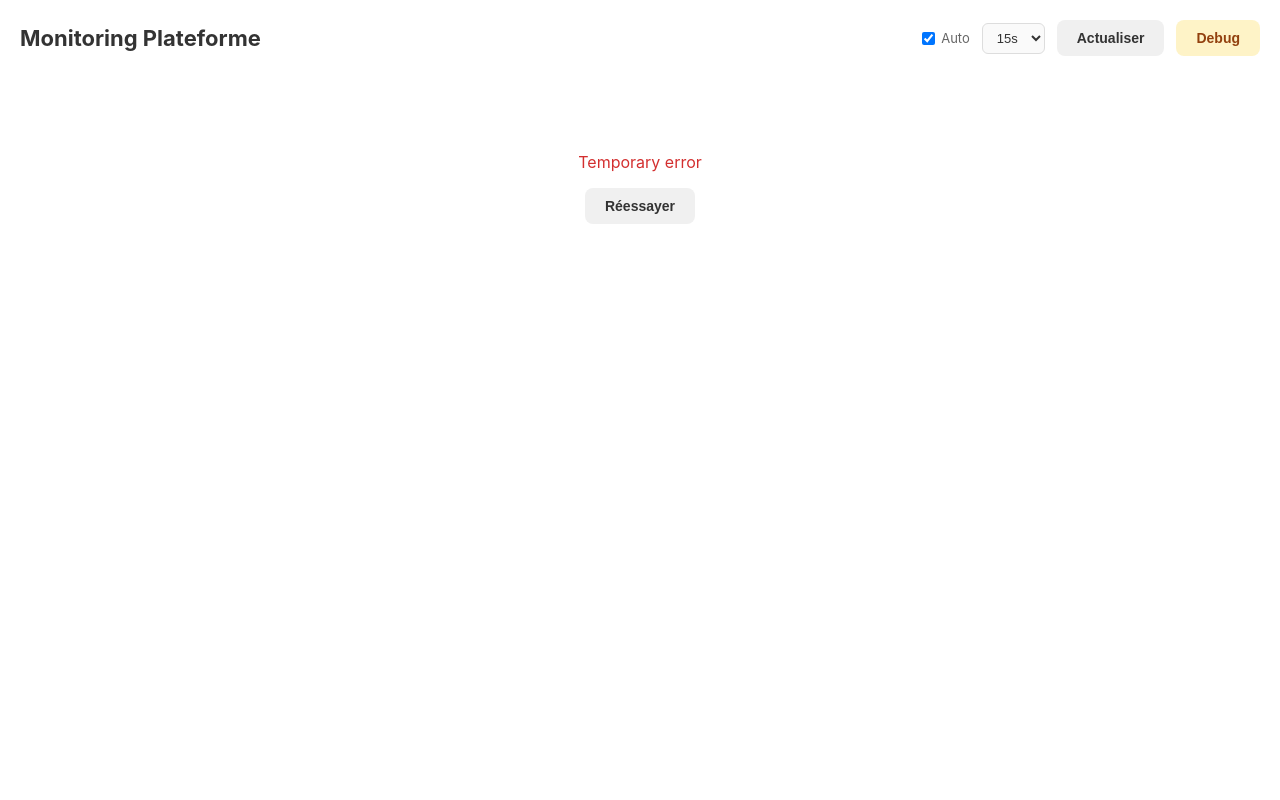
Test: Monitor › clicking Réessayer retries fetchHealth after error
The image size is (1280, 800).
Expected: the text "Temporary error" is shown, x1=578 y1=152 x2=702 y2=172
Click the button "Réessayer" at [640, 206], box x1=585 y1=188 x2=695 y2=224
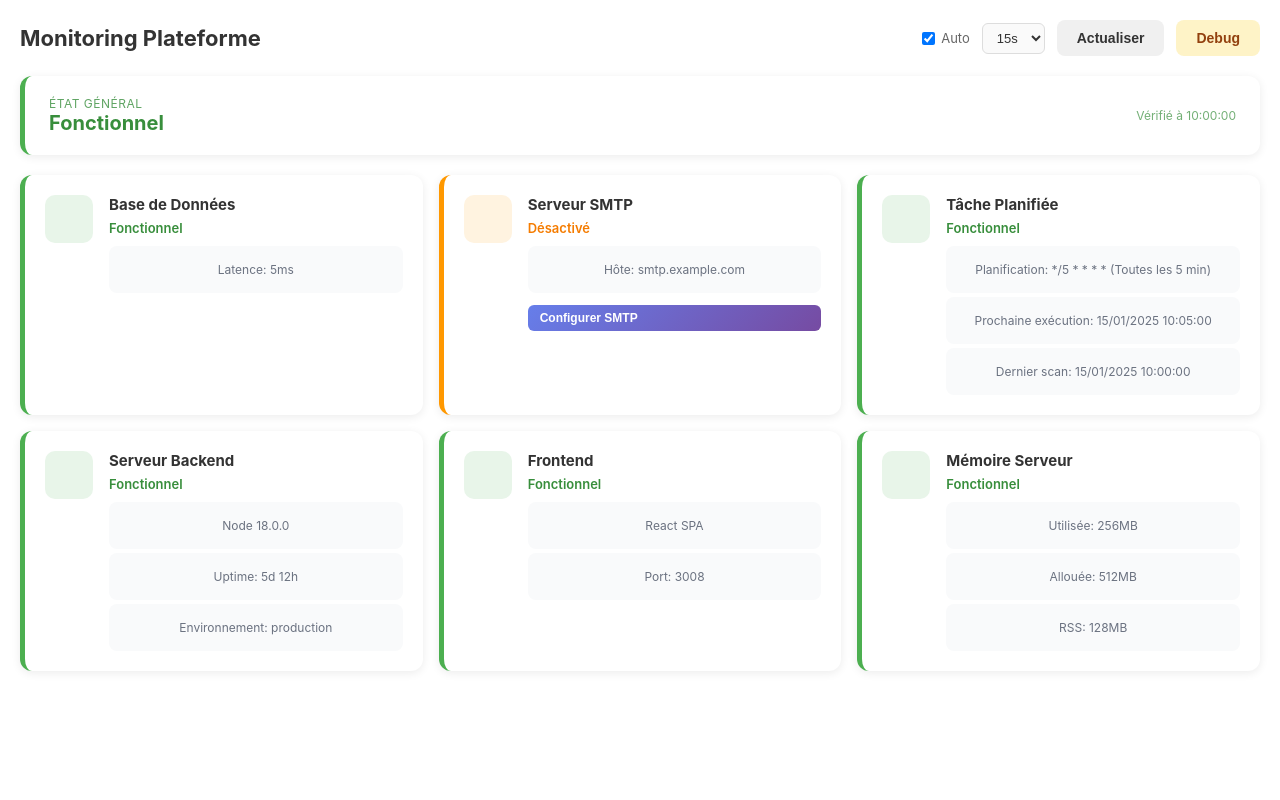
Expected: the text "État Général" is shown, x1=49 y1=96 x2=142 y2=111
